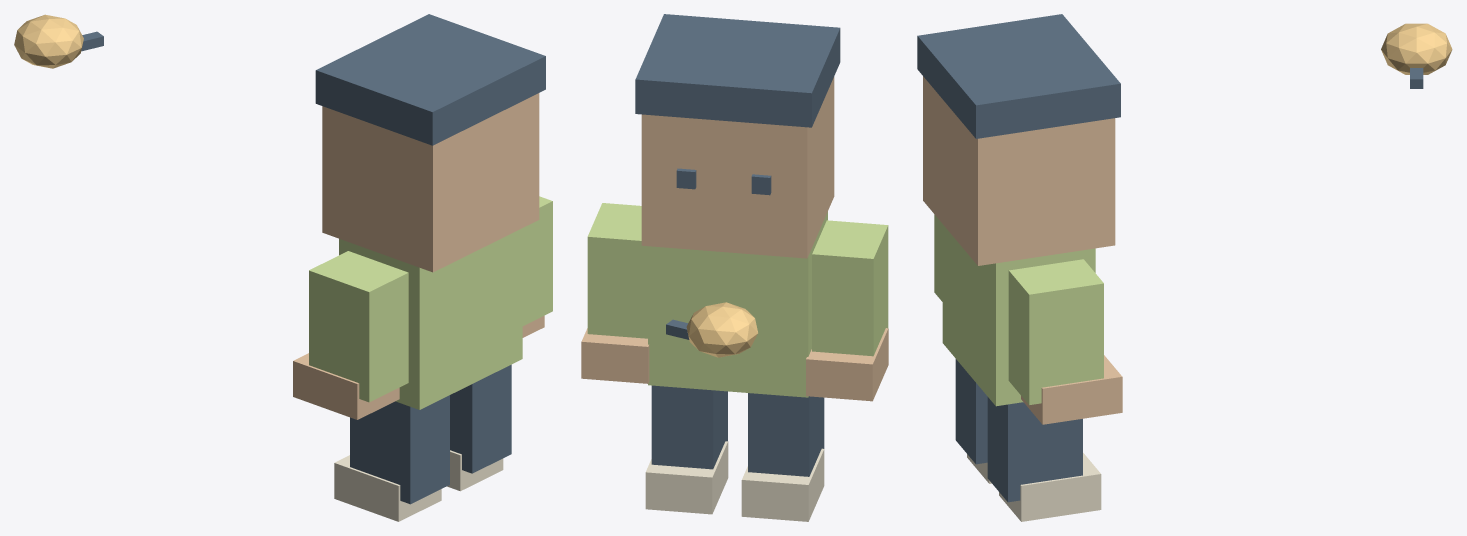
The model's file is bell.glb.
3 renders of one model, left to right at view 1: azimuth 30°, elevation 25°; view 2: azimuth 150°, elevation 25°; view 3: azimuth 270°, elevation 25°, orthographic. The views are drawn at different scales.
Parts seen in each view (by area): view 1: Preview_head, Preview_hair, Preview_body, Preview_RightArm, Preview_RightLeg, Preview_LeftLeg, Preview_LeftArm, Preview_tip.003, Preview_tip.001, Bell_dome, Preview_tip.002; view 2: Preview_head, Preview_body, Preview_hair, Preview_RightArm, Preview_LeftArm, Preview_RightLeg, Preview_LeftLeg, Preview_tip.002, Preview_tip.003, Preview_tip.001, Preview_tip, Bell_dome (+2 smaller); view 3: Preview_head, Preview_hair, Preview_LeftArm, Preview_body, Preview_LeftLeg, Preview_tip, Preview_tip.002, Bell_dome, Preview_RightLeg, Preview_RightArm.
Part boxes in pixels (left/top/right/bottom): Preview_head: left=322, top=93, right=539, bottom=272; Preview_hair: left=315, top=14, right=545, bottom=145; Preview_body: left=339, top=228, right=522, bottom=409; Preview_RightArm: left=309, top=251, right=408, bottom=402; Preview_RightLeg: left=350, top=395, right=449, bottom=504; Preview_LeftLeg: left=450, top=364, right=511, bottom=473; Preview_LeftArm: left=522, top=196, right=552, bottom=325; Preview_tip.003: left=334, top=455, right=441, bottom=521; Preview_tip.001: left=293, top=353, right=399, bottom=419; Bell_dome: left=14, top=14, right=83, bottom=68; Preview_tip.002: left=447, top=450, right=503, bottom=491; Preview_head: left=641, top=77, right=834, bottom=258; Preview_body: left=648, top=211, right=827, bottom=397; Preview_hair: left=635, top=14, right=840, bottom=127; Preview_RightArm: left=812, top=220, right=888, bottom=356; Preview_LeftArm: left=587, top=203, right=647, bottom=338; Preview_RightLeg: left=748, top=393, right=824, bottom=476; Preview_LeftLeg: left=651, top=385, right=727, bottom=469; Preview_tip.002: left=645, top=441, right=728, bottom=514; Preview_tip.003: left=741, top=448, right=824, bottom=521; Preview_tip.001: left=806, top=328, right=888, bottom=401; Preview_tip: left=581, top=328, right=649, bottom=383; Bell_dome: left=686, top=302, right=758, bottom=357; Preview_head: left=923, top=76, right=1115, bottom=265; Preview_hair: left=917, top=14, right=1120, bottom=138; Preview_LeftArm: left=1008, top=259, right=1103, bottom=404; Preview_body: left=942, top=224, right=1095, bottom=406; Preview_LeftLeg: left=987, top=397, right=1082, bottom=502; Preview_tip: left=1021, top=355, right=1122, bottom=424; Preview_tip.002: left=999, top=453, right=1101, bottom=521; Bell_dome: left=1381, top=23, right=1452, bottom=74; Preview_RightLeg: left=955, top=359, right=987, bottom=464; Preview_RightArm: left=934, top=214, right=942, bottom=301.
Size of the model in its own units: 1.48 by 1.77 by 2.02.
